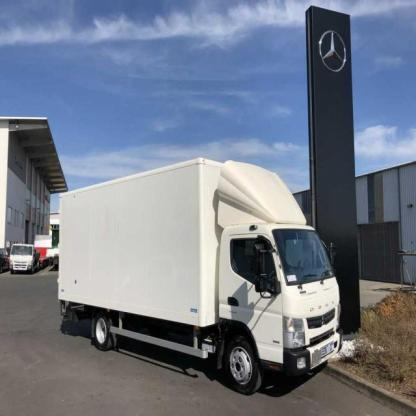truck: (60, 158, 343, 395)
